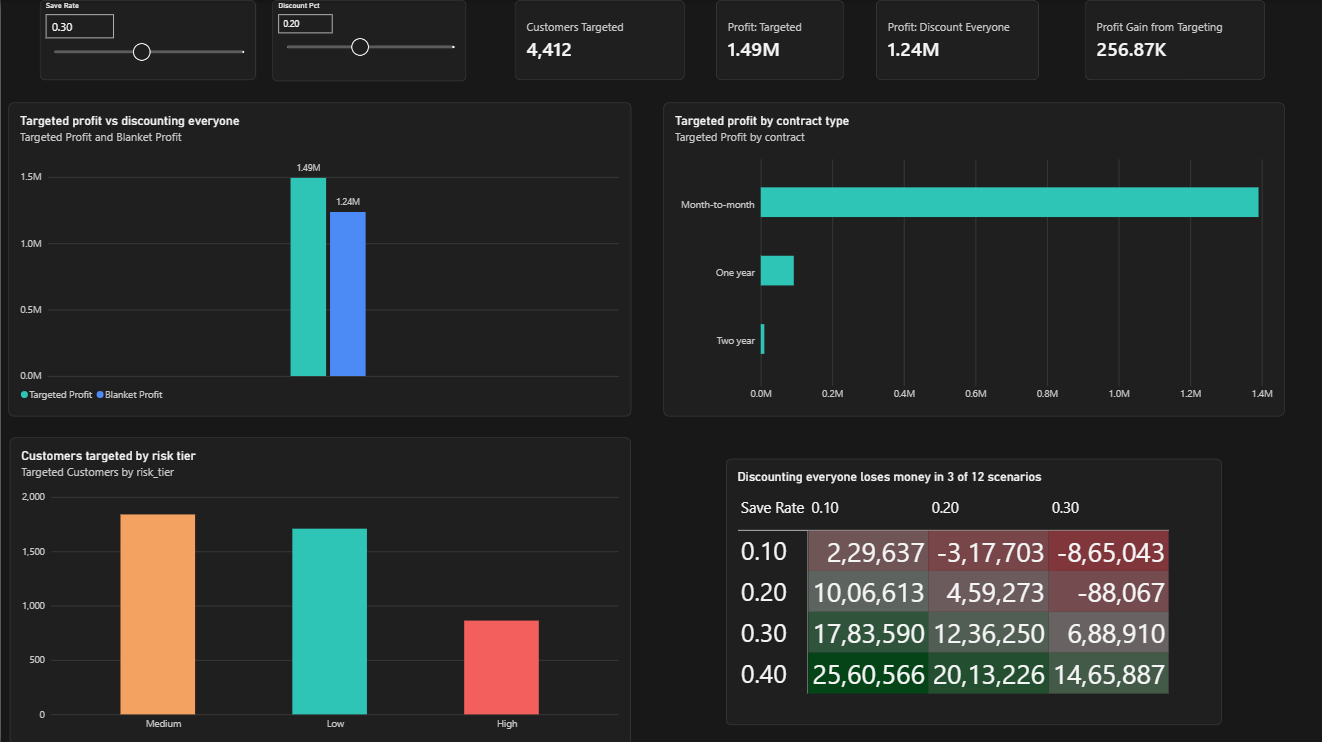

The dashboard page shown, as its layout file describes it:
{"tool":"powerbi","page":{"name":"What-if","canvas":[1920,1080],"ordinal":2},"visuals":[{"type":"slicer","fields":{"Values":["Save Rate.Save Rate"]},"box":[56.1,0,313.1,115.8],"z":0},{"type":"slicer","fields":{"Values":["Discount Pct.Discount Pct"]},"box":[392.1,0,280.5,117.6],"z":1000},{"type":"cardVisual","fields":{"Data":["predictions.Targeted Profit"]},"box":[1036,0,185.2,116.2],"z":2000},{"type":"cardVisual","fields":{"Data":["predictions.Blanket Profit"]},"box":[1266,0,236,116.2],"z":3000},{"type":"cardVisual","fields":{"Data":["predictions.Targeted Customers Display"]},"box":[744.3,0,246.9,116.2],"z":4000},{"type":"clusteredColumnChart","title":"Targeted profit vs discounting everyone","fields":{"Y":["predictions.Targeted Profit","predictions.Blanket Profit"]},"box":[10.9,148.4,901.2,454.2],"z":5000},{"type":"cardVisual","fields":{"Data":["predictions.Profit Gain vs Blanket"]},"box":[1568.5,0,261.4,116.2],"z":6000},{"type":"clusteredBarChart","title":"Targeted profit by contract type","fields":{"Category":["predictions.contract"],"Y":["predictions.Targeted Profit"]},"box":[959.1,148.4,899.4,454.2],"z":7000},{"type":"clusteredColumnChart","title":"Customers targeted by risk tier","fields":{"Category":["predictions.risk_tier"],"Y":["predictions.Targeted Customers"]},"box":[13,634,899,446],"z":8000},{"type":"pivotTable","title":"Discounting everyone loses money in 3 of 12 scenarios","fields":{"Columns":["sensitivity.discount"],"Rows":["sensitivity.save_rate"],"Values":["Sum(sensitivity.blanket_profit)"]},"box":[1049.2,663.7,717.3,385.5],"z":9000}]}

Visuals, with their boxes in screenshot pixels (x1, y1, x2, y2), scaled from the page's 1920x1080 canvas onto the 1322x742 screenshot:
slicer - Save Rate.Save Rate: 39 0 254 80
slicer - Discount Pct.Discount Pct: 270 0 463 81
cardVisual - predictions.Targeted Profit: 713 0 841 80
cardVisual - predictions.Blanket Profit: 872 0 1034 80
cardVisual - predictions.Targeted Customers Display: 512 0 682 80
"Targeted profit vs discounting everyone" clusteredColumnChart: 8 102 628 414
cardVisual - predictions.Profit Gain vs Blanket: 1080 0 1260 80
"Targeted profit by contract type" clusteredBarChart: 660 102 1280 414
"Customers targeted by risk tier" clusteredColumnChart: 9 436 628 741
"Discounting everyone loses money in 3 of 12 scenarios" pivotTable: 722 456 1216 721
